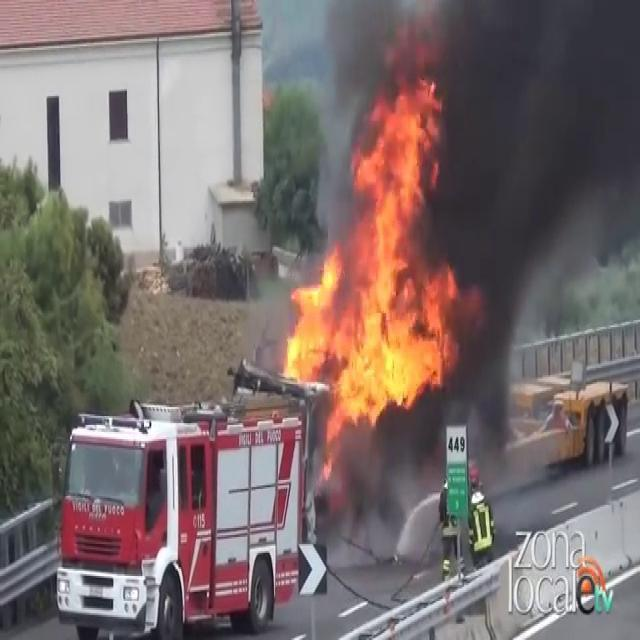Fire: (280, 74, 462, 436)
Smoke: (423, 1, 640, 351)
